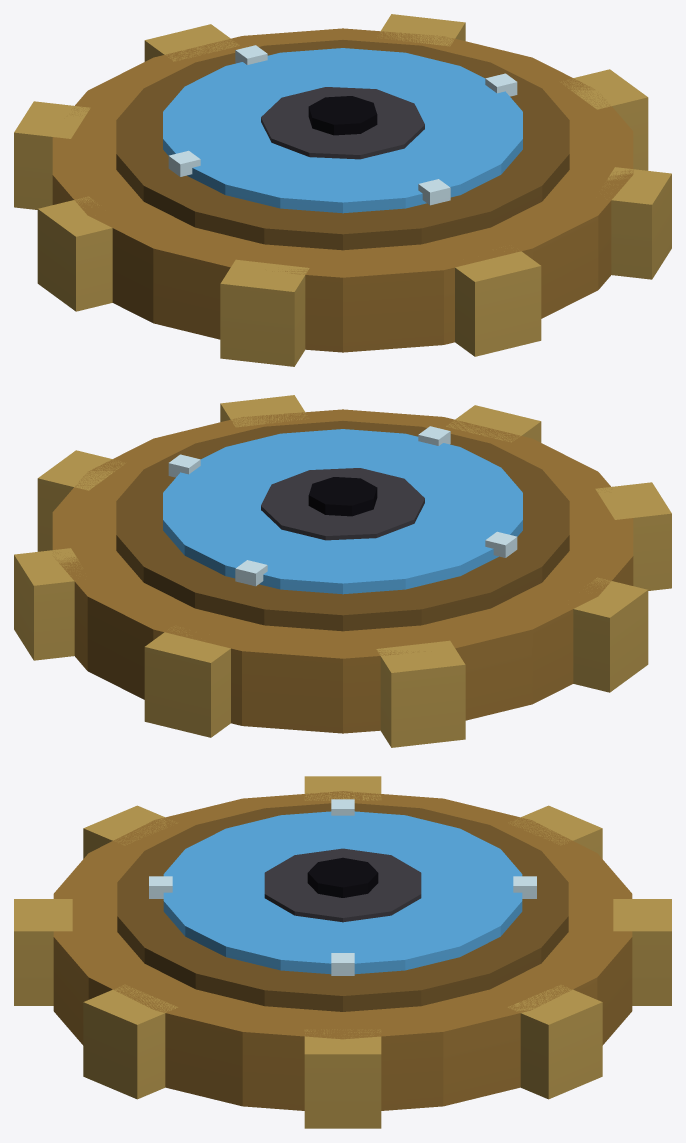
Rendered from cog_small.glb.
3 views of the same model, one above another, from view 1: azimuth 30°, elevation 25°; view 2: azimuth 150°, elevation 25°; view 3: azimuth 270°, elevation 25° (orthographic).
Parts seen in each view (by area): view 1: cog_small; view 2: cog_small; view 3: cog_small.
Boxes of the visible parts, <box> form: cog_small: <box>14,14,671,366</box>; cog_small: <box>14,395,671,747</box>; cog_small: <box>14,776,671,1128</box>.
Size of the model in its own units: 0.56 by 0.11 by 0.56.
